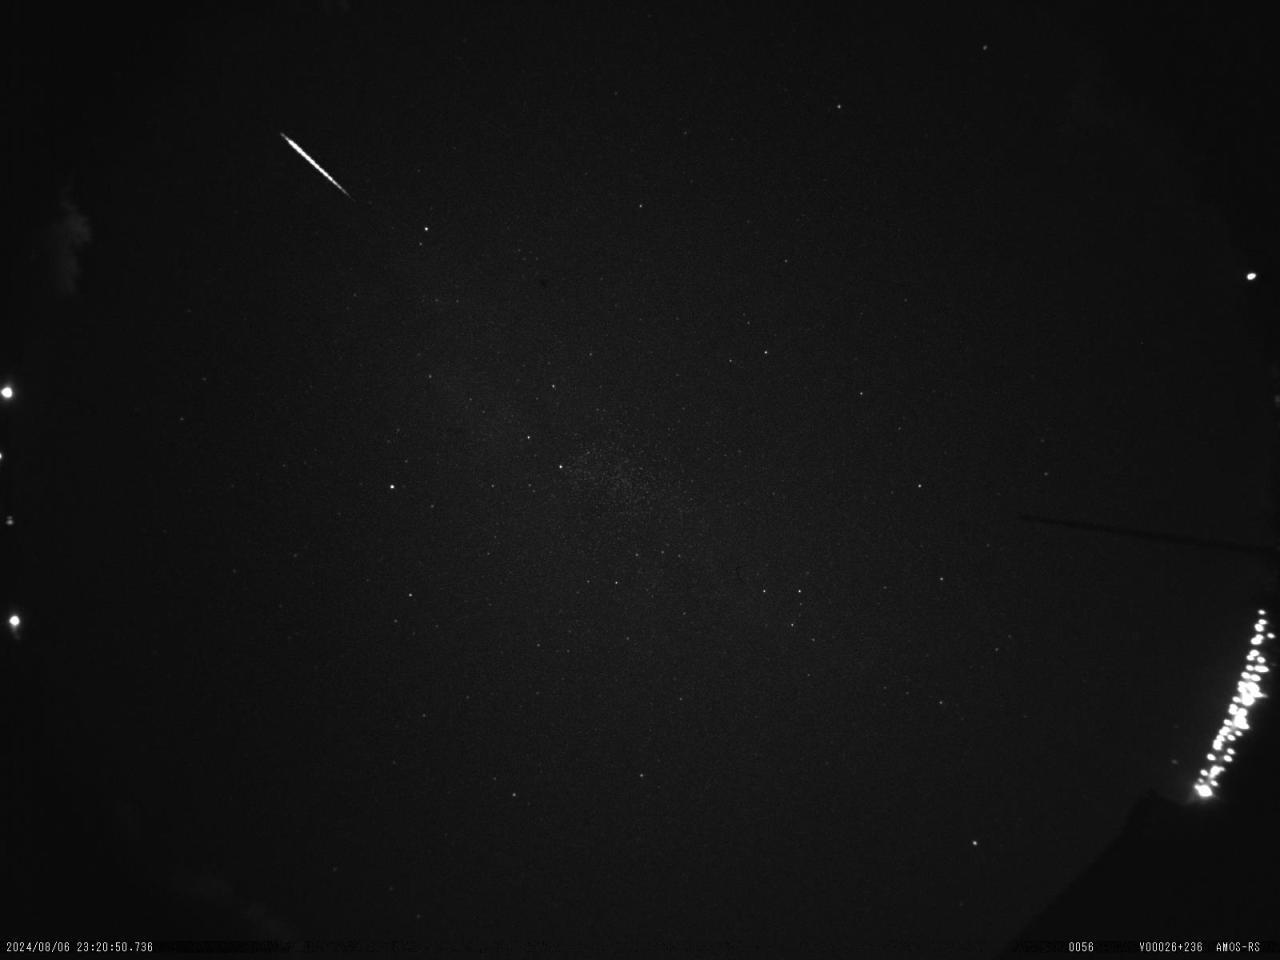Meteor: (278, 128, 352, 198)
